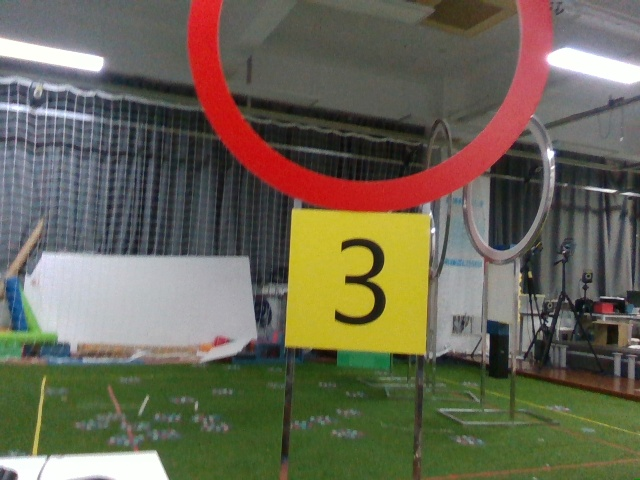target: (292, 205, 420, 348)
